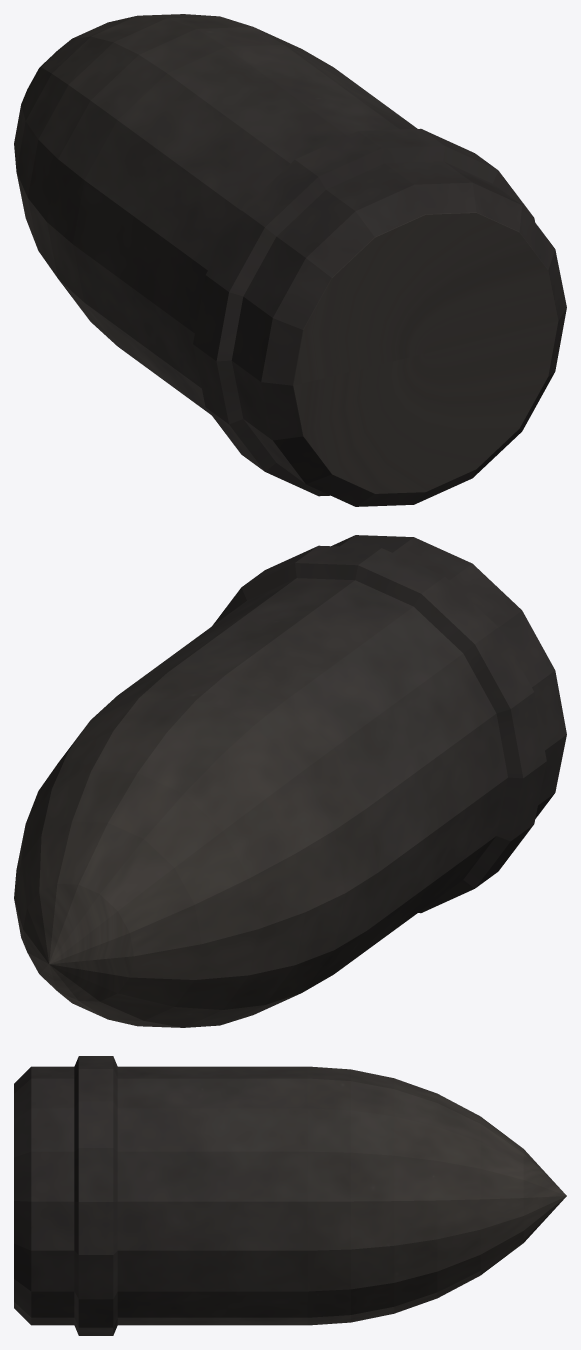
Rendered from heavy_shell.glb.
3 views of the same model, one above another, from view 1: azimuth 30°, elevation 25°; view 2: azimuth 150°, elevation 25°; view 3: azimuth 270°, elevation 25° (orthographic). The views are drawn at different scales.
Visible parts, largest first — view 1: heavy_shell; view 2: heavy_shell; view 3: heavy_shell.
Part boxes in pixels (x1,y1,x2,y2): heavy_shell: (14, 14, 566, 506); heavy_shell: (14, 535, 566, 1027); heavy_shell: (14, 1056, 566, 1335).
Size of the model in its own units: 0.324 by 0.324 by 0.64.
Materials: 1 (1 with a texture image).
